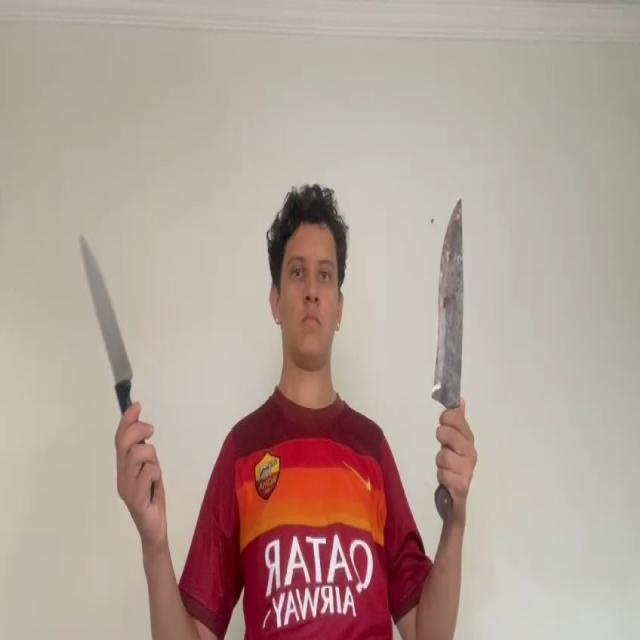knife: (80, 232, 133, 383), (432, 196, 467, 399)
